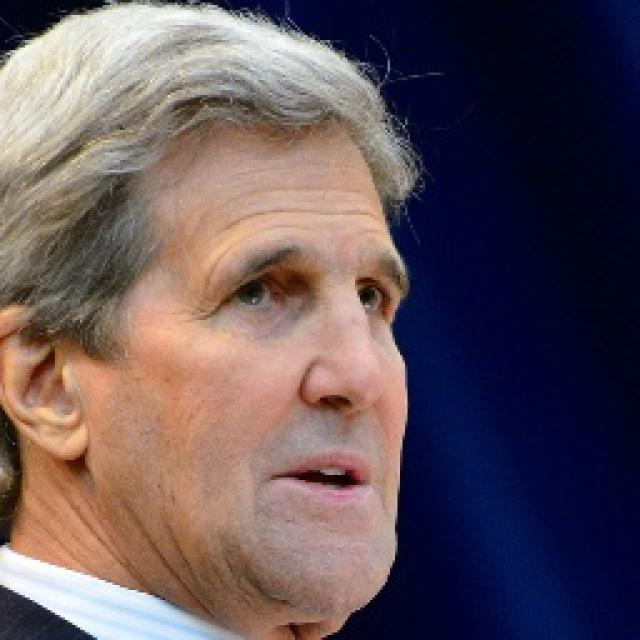earlobe: (0, 305, 93, 462)
